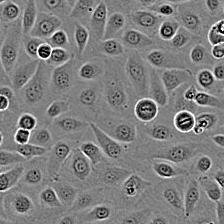cell: (135, 98, 157, 121), (174, 110, 195, 132), (25, 83, 42, 101), (124, 178, 138, 198), (107, 89, 123, 106), (196, 114, 215, 128), (80, 89, 95, 106), (19, 115, 35, 130), (152, 125, 169, 139), (168, 145, 183, 160), (199, 71, 214, 86), (14, 128, 29, 143), (165, 73, 179, 89), (55, 70, 68, 87), (115, 125, 130, 139), (106, 142, 120, 157), (37, 43, 51, 58), (72, 159, 86, 173), (27, 168, 40, 183), (157, 163, 172, 176), (194, 92, 209, 105), (126, 29, 139, 44), (103, 170, 119, 182), (15, 197, 28, 211), (42, 189, 56, 202), (55, 144, 68, 158), (129, 64, 142, 78), (149, 51, 163, 64), (38, 20, 52, 33), (184, 14, 197, 28), (5, 4, 18, 18), (111, 14, 124, 28), (15, 71, 28, 85), (212, 43, 224, 58), (62, 117, 75, 130), (81, 65, 94, 78), (190, 48, 203, 61), (51, 48, 64, 61), (58, 187, 72, 199), (171, 34, 185, 46), (53, 31, 65, 45), (76, 28, 87, 43), (96, 207, 109, 219), (208, 187, 220, 200), (198, 158, 211, 170), (83, 143, 96, 155), (3, 45, 15, 58), (187, 187, 198, 201), (22, 12, 33, 26), (165, 189, 175, 204), (214, 133, 224, 148), (0, 174, 9, 190), (140, 14, 153, 25), (37, 131, 49, 142), (48, 104, 59, 116), (161, 25, 173, 36), (18, 145, 31, 155), (27, 41, 37, 54), (159, 5, 173, 14), (78, 195, 89, 206), (105, 41, 116, 52), (155, 89, 164, 102), (43, 0, 59, 7), (184, 89, 195, 99), (0, 153, 9, 165), (215, 66, 224, 78), (0, 95, 7, 109), (150, 218, 164, 224)
